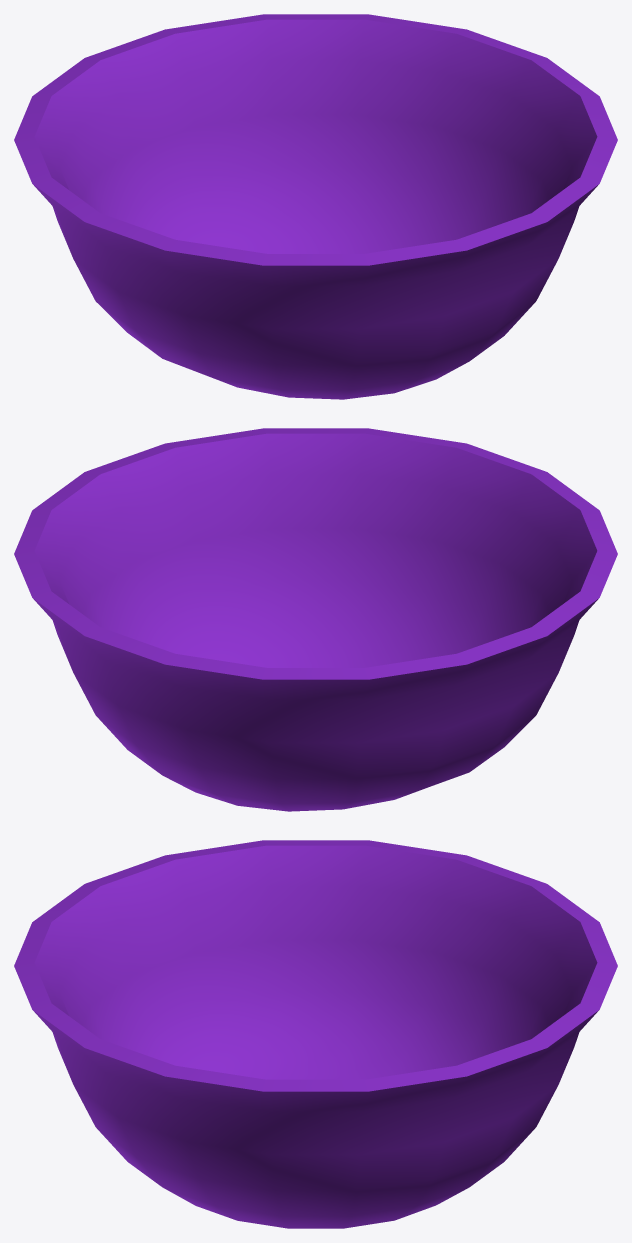
The model's file is bowl empty.fbx.
3 renders of one model, top to bottom at view 1: azimuth 30°, elevation 25°; view 2: azimuth 150°, elevation 25°; view 3: azimuth 270°, elevation 25°, orthographic.
Parts seen in each view (by area): view 1: bowl empty; view 2: bowl empty; view 3: bowl empty.
Boxes of the visible parts, left/top/right/bottom form: bowl empty: left=14, top=14, right=617, bottom=399; bowl empty: left=14, top=428, right=617, bottom=811; bowl empty: left=14, top=840, right=617, bottom=1228.
Bounding box in the file's own units: 5.07 × 2.17 × 5.15.
